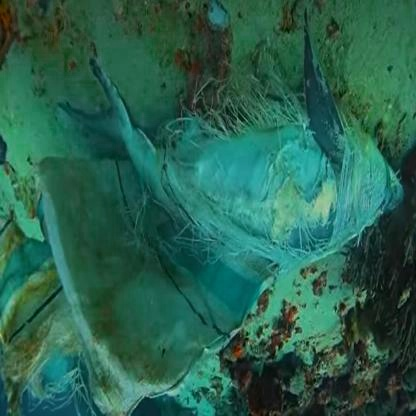net: (103, 111, 337, 302)
